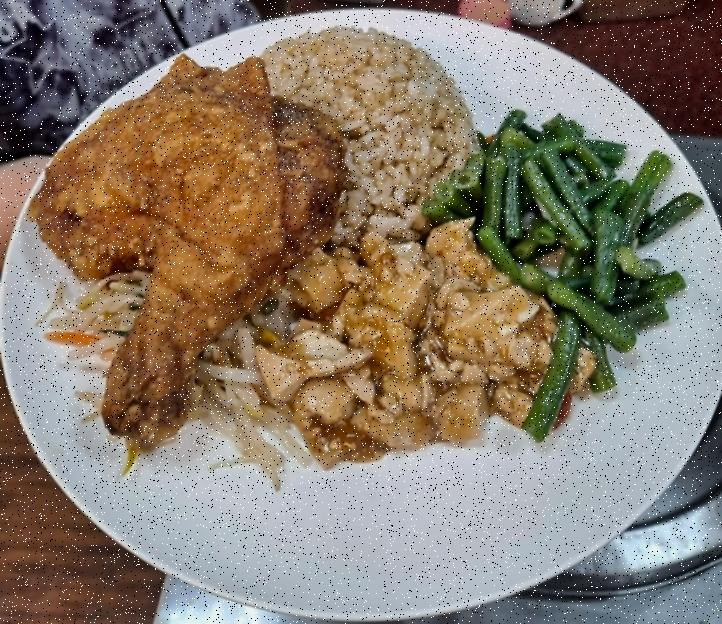big fried chicken leg: (36, 58, 348, 448)
brown rice: (257, 26, 476, 238)
plate: (0, 10, 721, 623)
side dish: (424, 113, 697, 436), (283, 216, 584, 461), (52, 272, 292, 476)
